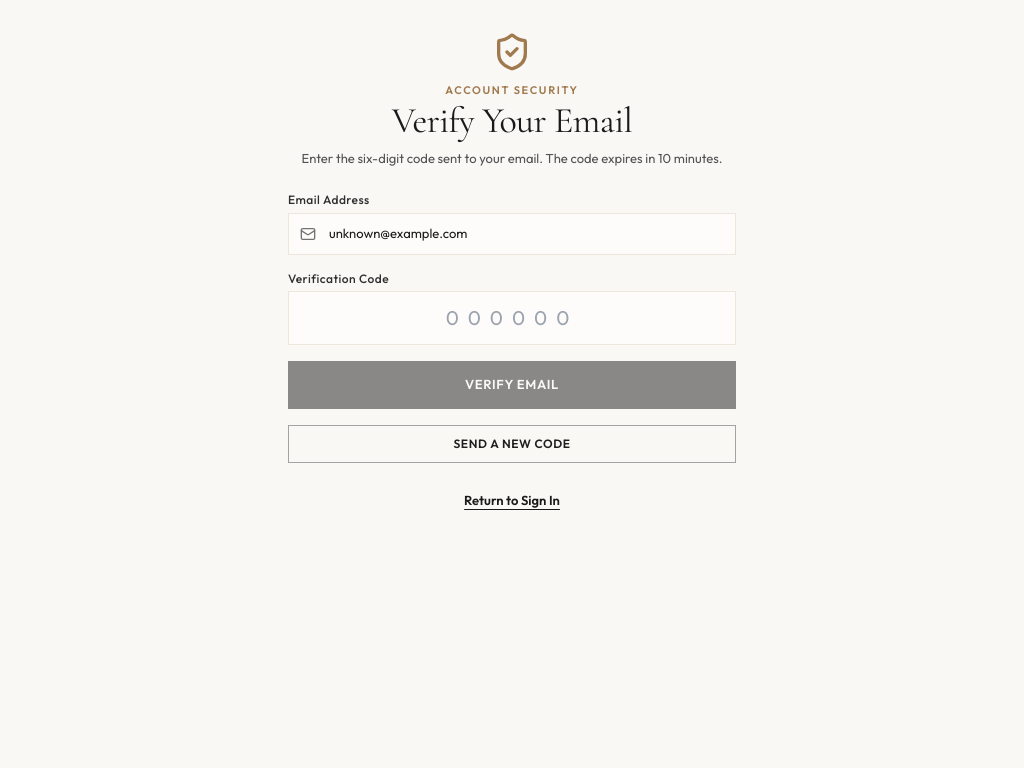
Test case: VerifyEmailPage › requests a new OTP without exposing whether an account exists
The width and height of the screenshot is (1024, 768).
Click the button "SEND A NEW CODE" at {"x": 512, "y": 444}, box [288,425,736,463]
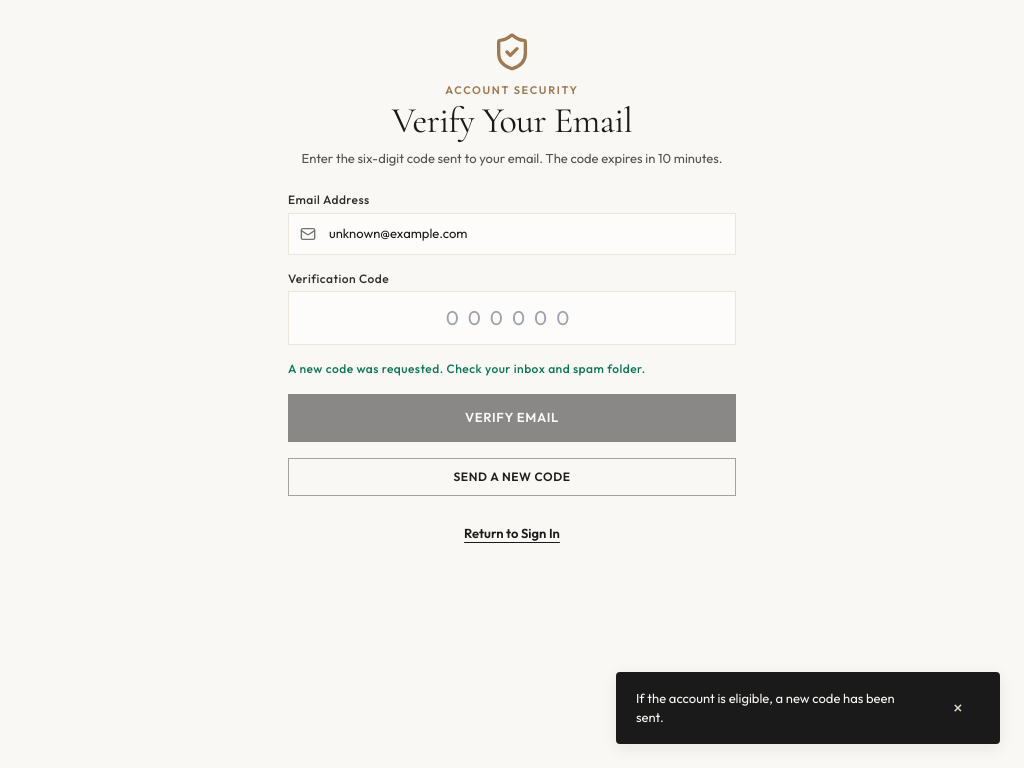
Expected: the text "If the account is eligible, a new code has been sent." is shown, [636,688,924,728]
